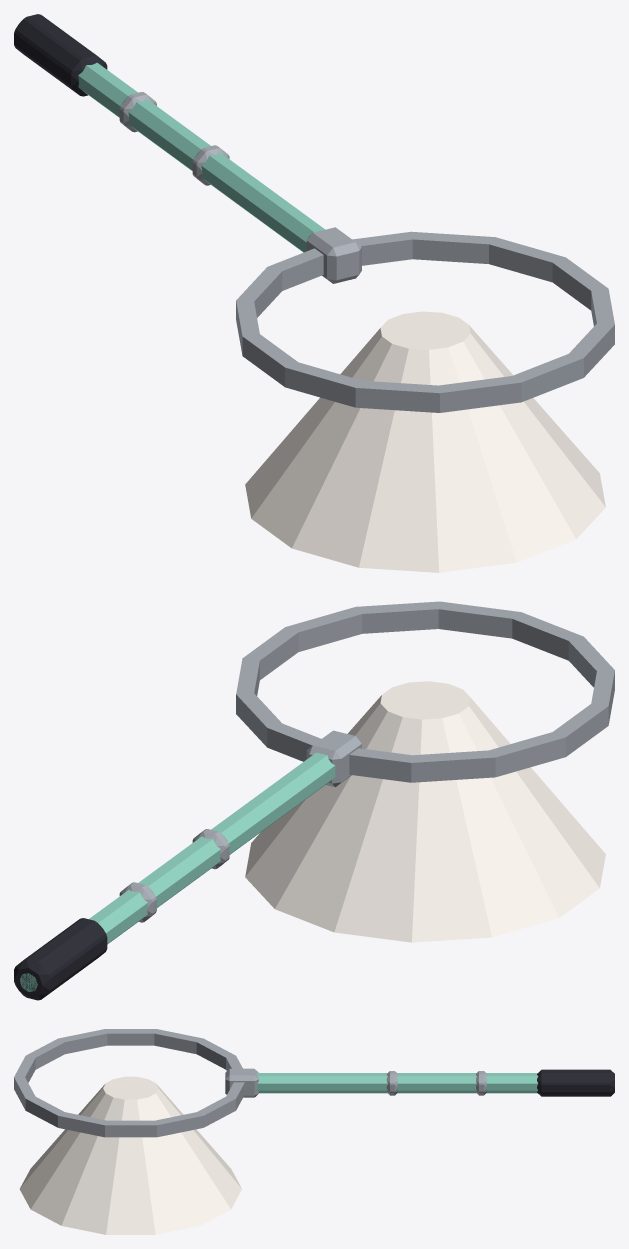
The model's file is CatCafe_Item_Net_L2.glb.
The picture shows the model from 3 angles, top to bottom: view 1: azimuth 30°, elevation 25°; view 2: azimuth 150°, elevation 25°; view 3: azimuth 270°, elevation 25°; orthographic projection. The views are drawn at different scales.
Visible parts, largest first — view 1: CatCafe_Item_Net_L2_Bag, CatCafe_Item_Net_L2_Handle; view 2: CatCafe_Item_Net_L2_Bag, CatCafe_Item_Net_L2_Handle; view 3: CatCafe_Item_Net_L2_Bag, CatCafe_Item_Net_L2_Handle.
Part boxes in pixels (x1,y1,x2,y2): CatCafe_Item_Net_L2_Bag: [245, 311, 605, 572]; CatCafe_Item_Net_L2_Handle: [14, 14, 614, 412]; CatCafe_Item_Net_L2_Bag: [245, 681, 605, 942]; CatCafe_Item_Net_L2_Handle: [14, 601, 614, 1000]; CatCafe_Item_Net_L2_Bag: [19, 1076, 241, 1234]; CatCafe_Item_Net_L2_Handle: [14, 1029, 614, 1137].
Bounding box in the file's own units: 2.05 × 1.17 × 5.4.
1 material, 1 textured.
